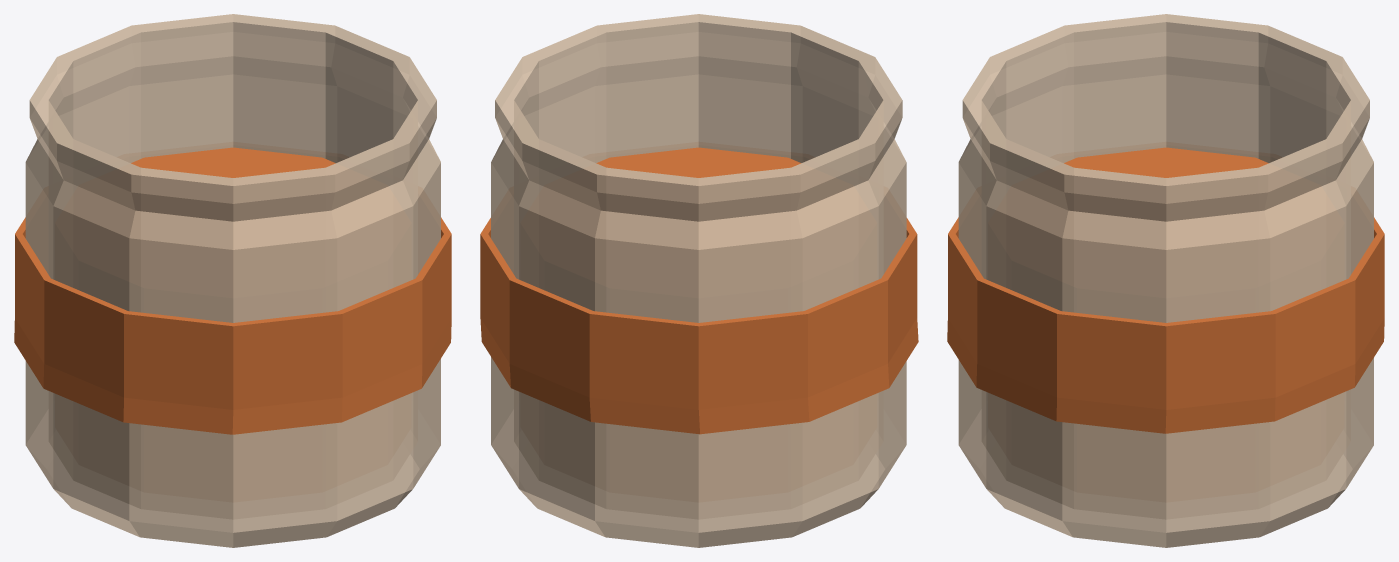
File: PeanutJar.fbx
The picture shows the model from 3 angles, left to right: view 1: azimuth 30°, elevation 25°; view 2: azimuth 150°, elevation 25°; view 3: azimuth 270°, elevation 25°; orthographic projection.
Visible parts, largest first — view 1: Jar, Label, Cylinder; view 2: Jar, Label, Cylinder; view 3: Jar, Label, Cylinder.
Part boxes in pixels (left/top/right/bottom): Jar: left=25, top=14, right=440, bottom=547; Label: left=14, top=217, right=451, bottom=434; Cylinder: left=131, top=147, right=335, bottom=177; Jar: left=491, top=14, right=906, bottom=547; Label: left=480, top=217, right=918, bottom=434; Cylinder: left=596, top=147, right=801, bottom=177; Jar: left=958, top=14, right=1373, bottom=547; Label: left=947, top=217, right=1384, bottom=433; Cylinder: left=1064, top=147, right=1268, bottom=177.
Size of the model in its own units: 211 by 196 by 211.
